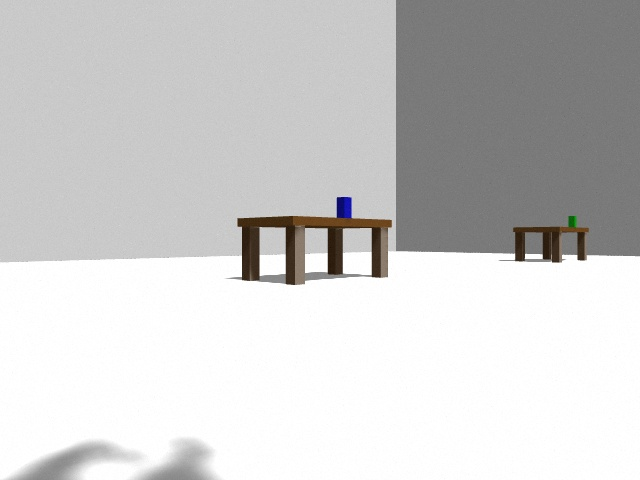blue_cube: (337, 197, 352, 218)
green_cube: (568, 216, 577, 227)
